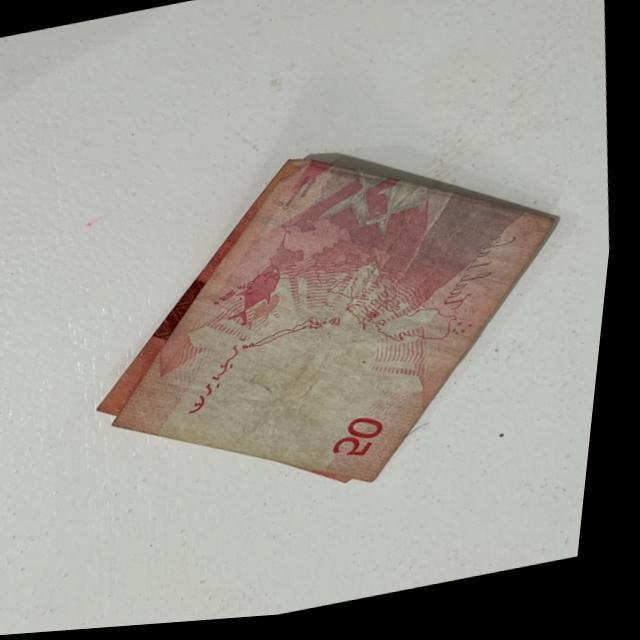security_thread: (252, 218, 529, 290)
see_through_mark: (188, 340, 258, 423)
